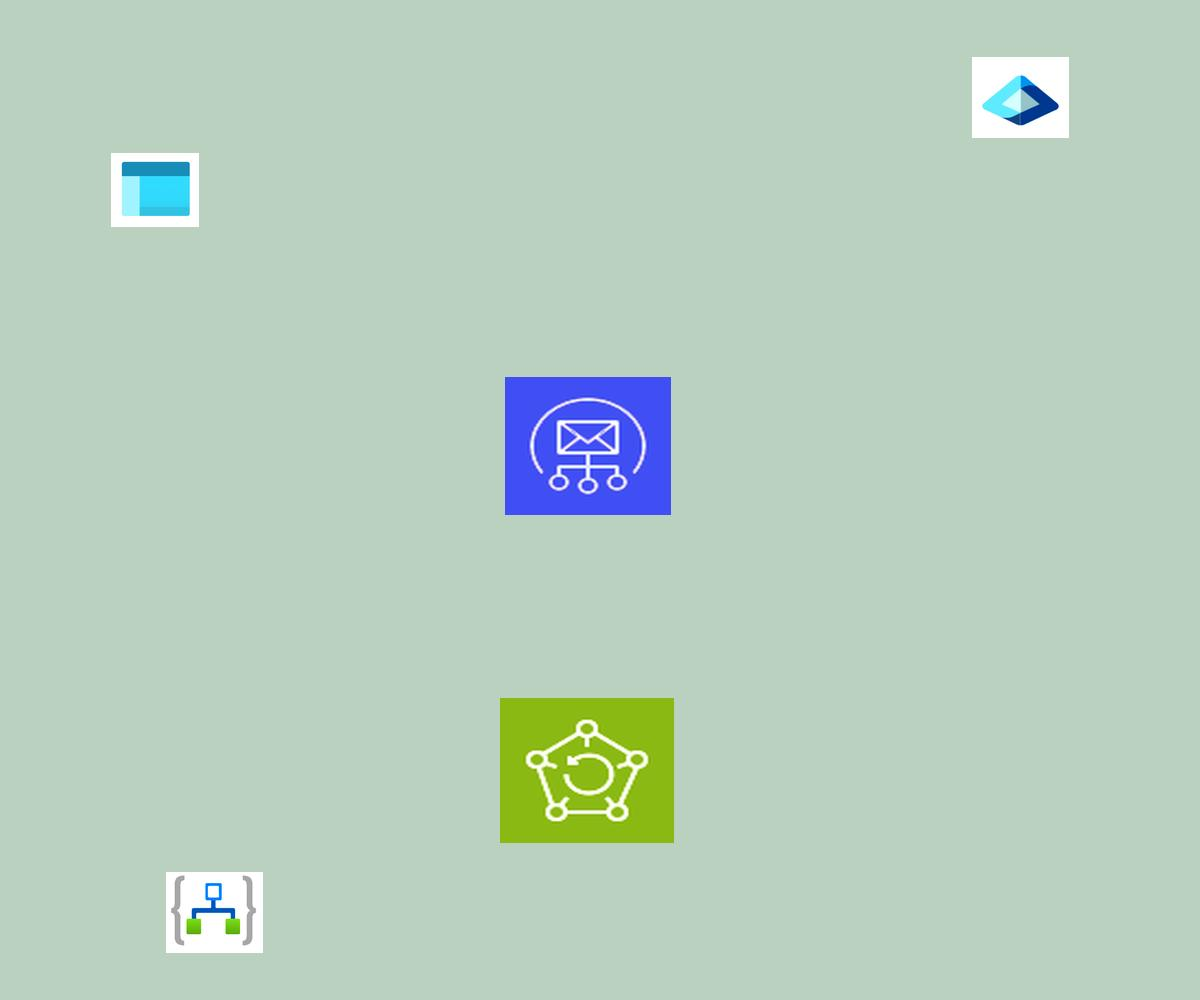AWS-Backup: (500, 698, 674, 843)
AWS-Simple-Email-Service: (505, 377, 671, 515)
Azure_integration-204-Logic-Apps: (166, 872, 263, 953)
Azure_management-portal: (111, 153, 199, 227)
Azure_microsoft_entra: (972, 57, 1069, 138)
